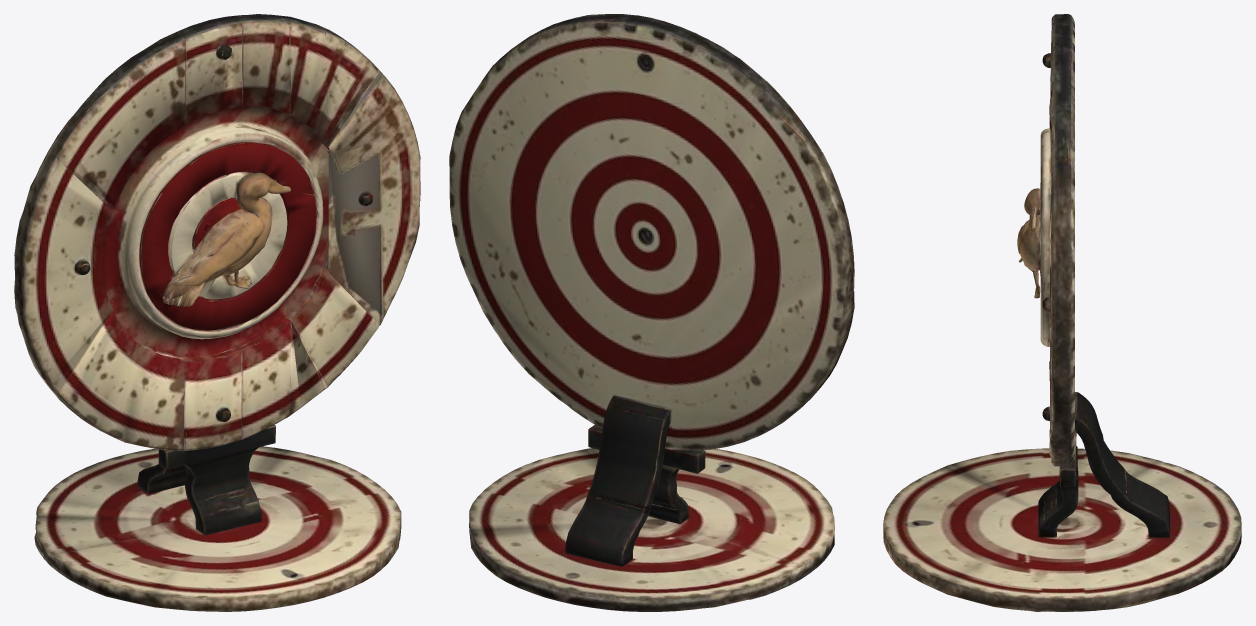
Rendered from duck.glb.
The picture shows the model from 3 angles, left to right: view 1: azimuth 30°, elevation 25°; view 2: azimuth 150°, elevation 25°; view 3: azimuth 270°, elevation 25°; orthographic projection. The views are drawn at different scales.
Parts seen in each view (by area): view 1: midway-fit; view 2: midway-fit; view 3: midway-fit.
Boxes of the visible parts, <box> form: midway-fit: <box>14,14,420,611</box>; midway-fit: <box>449,14,854,611</box>; midway-fit: <box>883,14,1241,611</box>.
Size of the model in its own units: 0.8126 by 1 by 0.6484.
Materials: 1 (1 with a texture image).
